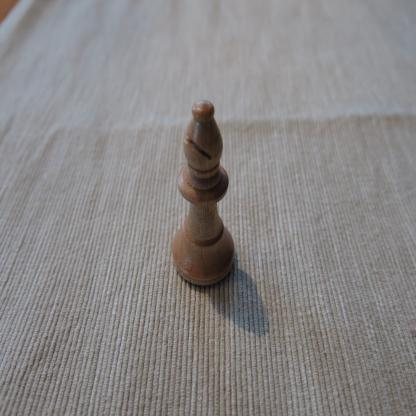white-bishop: (170, 98, 236, 289)
